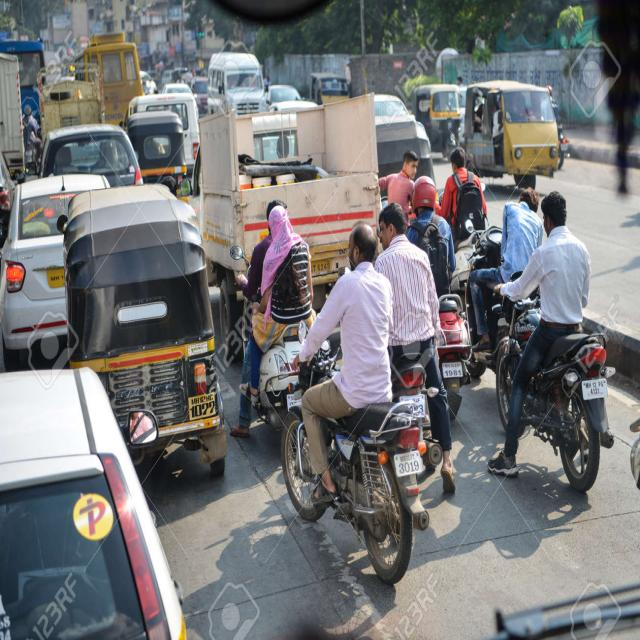autorickshaw: (64, 186, 225, 470), (464, 81, 559, 186), (128, 111, 188, 192), (412, 84, 460, 155)
bus: (84, 34, 142, 125)
car: (0, 174, 109, 350)
motorcycle: (281, 225, 429, 584), (488, 191, 614, 491)
truck: (191, 94, 381, 357)
